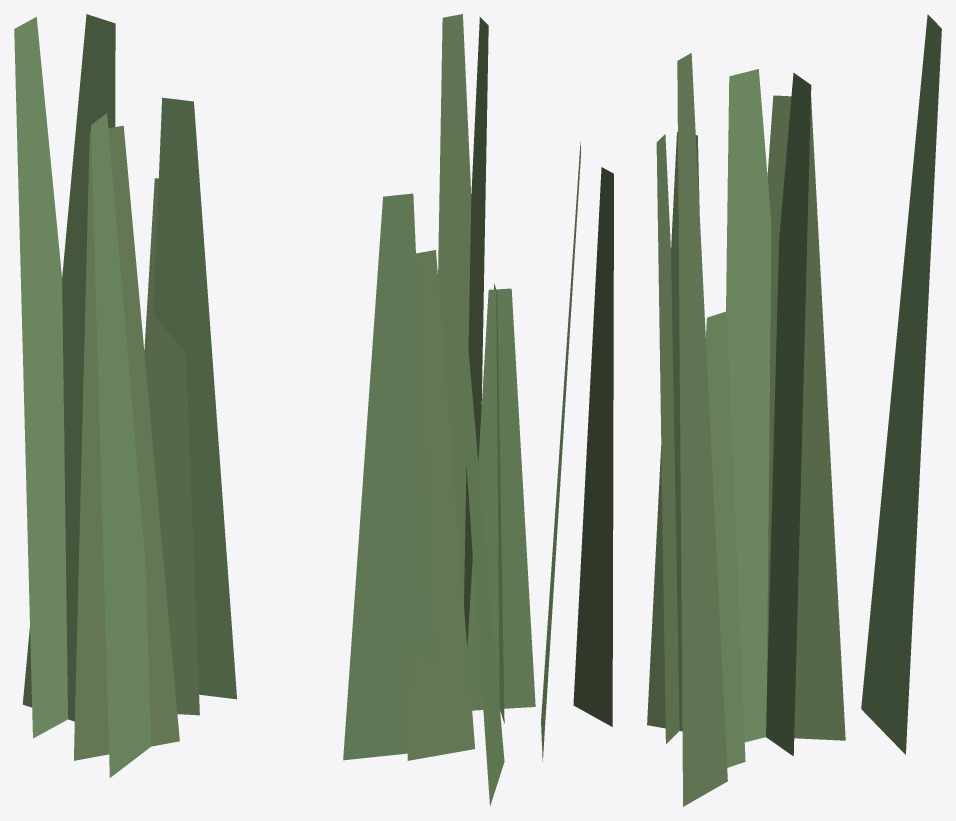
File: cao.luwei@subadult__bloom.glb
The picture shows the model from 3 angles, left to right: view 1: azimuth 30°, elevation 25°; view 2: azimuth 150°, elevation 25°; view 3: azimuth 270°, elevation 25°; orthographic projection. The views are drawn at different scales.
Parts seen in each view (by area): view 1: cao.luwei@subadult__bloom; view 2: cao.luwei@subadult__bloom; view 3: cao.luwei@subadult__bloom.
Part boxes in pixels (x1=…): cao.luwei@subadult__bloom: x1=14, y1=14, x2=236, y2=777; cao.luwei@subadult__bloom: x1=343, y1=14, x2=613, y2=806; cao.luwei@subadult__bloom: x1=647, y1=14, x2=941, y2=806.
Size of the model in its own units: 0.3813 by 1.33 by 0.4852.
